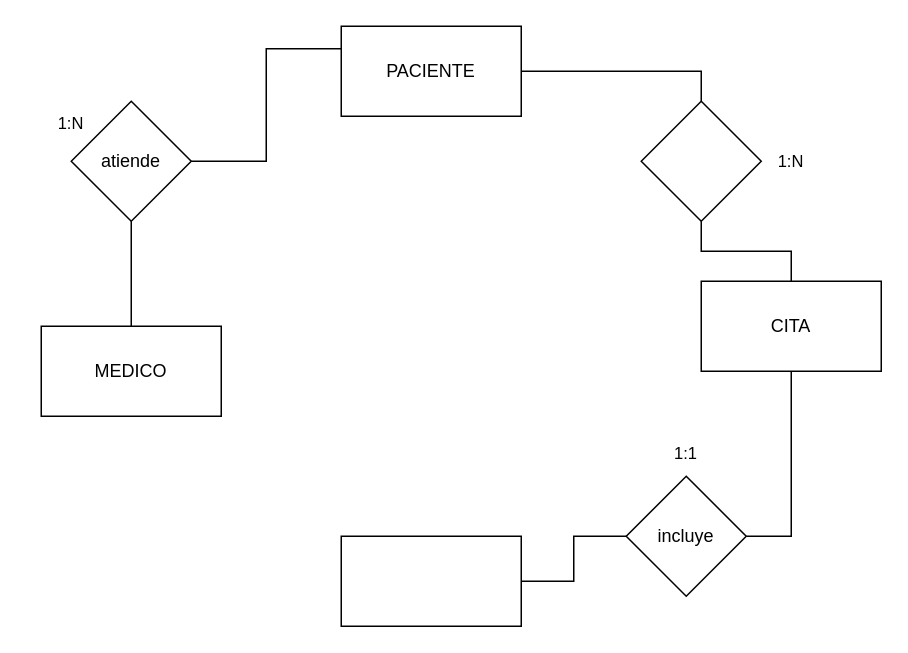
The diagram is 908 pixels wide and 653 high, and some of its shapes have lost their labels. Each missing label, with the centre of its shape:
"tiene" goes at point 700,160.
"TRATAMIENTO" goes at point 430,580.
